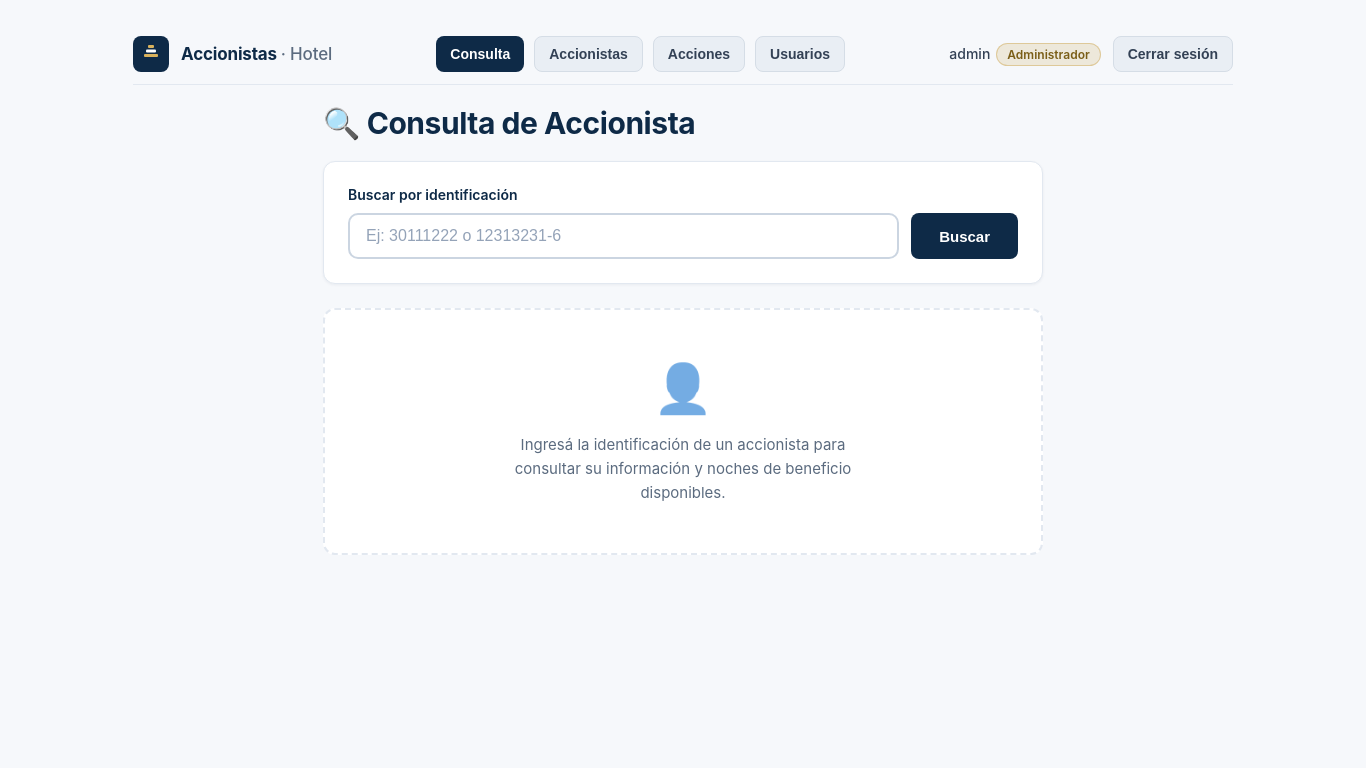
Test: App - puerta de entrada central › cierra sesión al pulsar Cerrar sesión y vuelve al login
What coordinates should you click on to do the following:
click the button "Cerrar sesión"
I would click on:
 (1173, 54)
Its box is [1113, 36, 1233, 72].
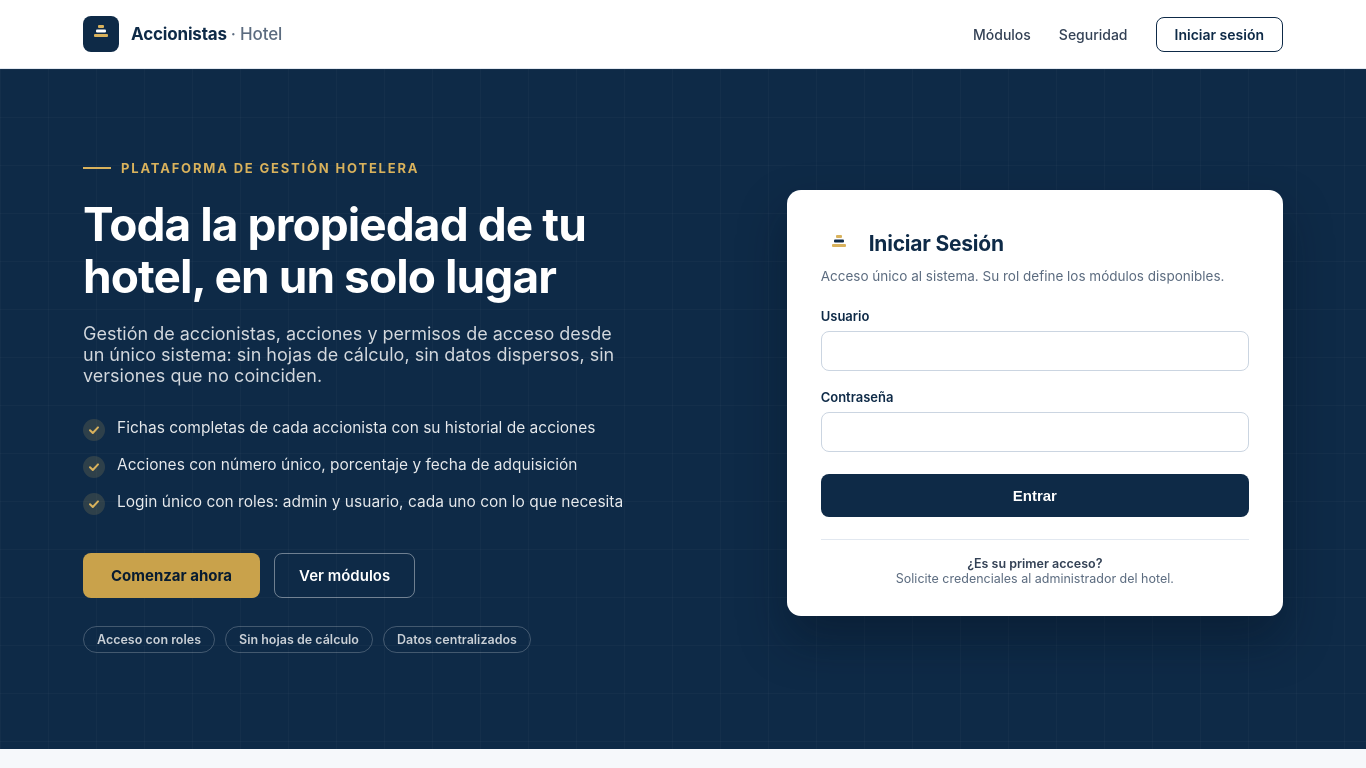
Expected: the heading "Iniciar Sesión" is shown, [869, 231, 1004, 256]
